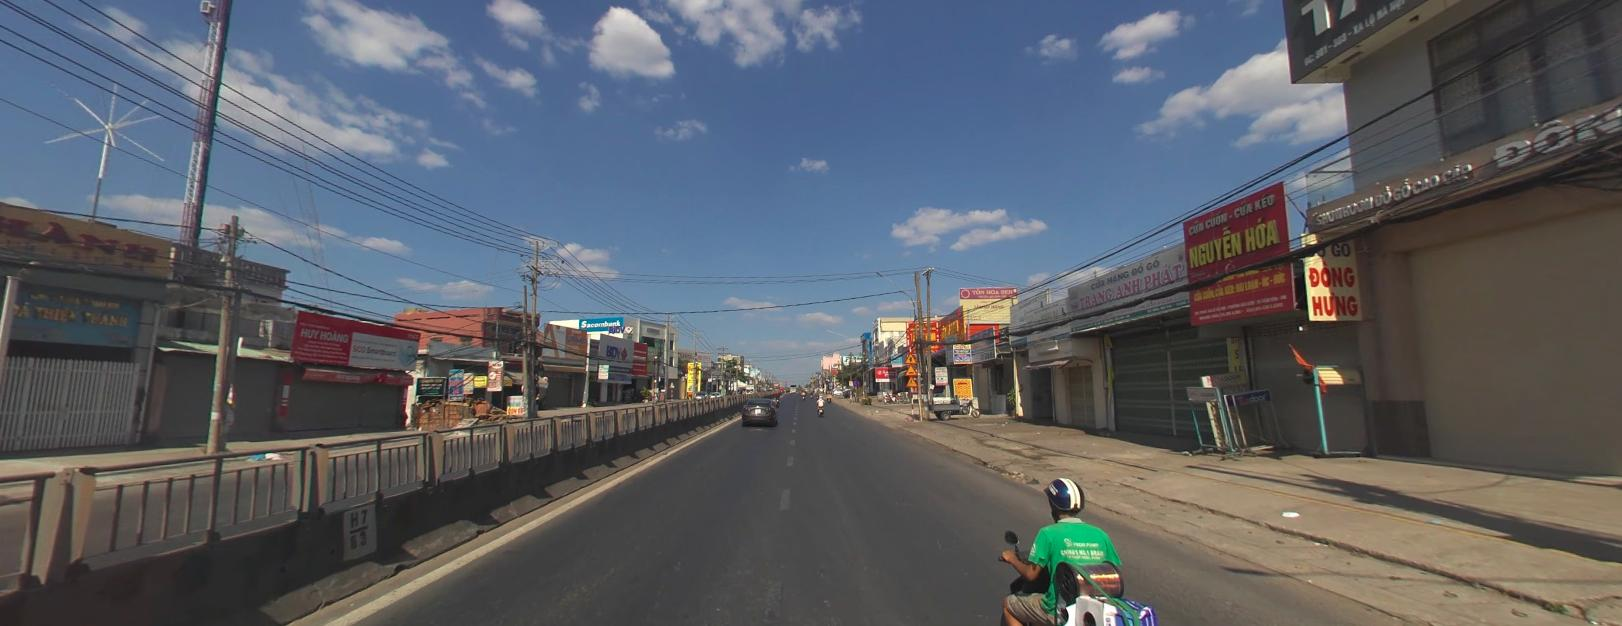Cam dung va do: (852, 378, 859, 385)
Nguy hiem: (904, 375, 917, 385), (904, 363, 917, 374), (904, 351, 917, 361)
